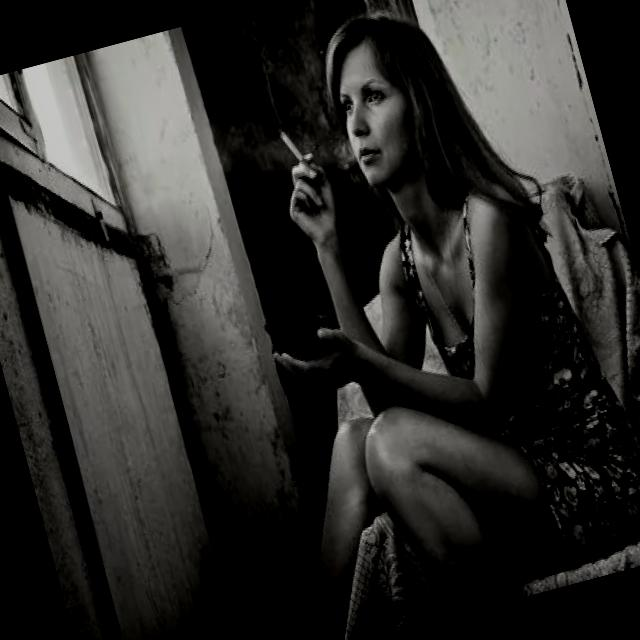smoke: (272, 113, 311, 174)
